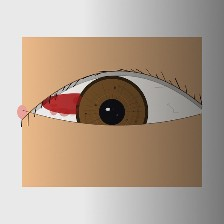hemorrhage_spot: (29, 67, 120, 140)
